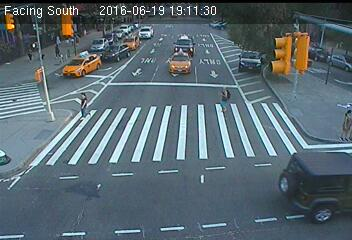neg: (260, 61, 285, 94), (240, 46, 261, 74), (305, 50, 323, 73), (1, 150, 18, 173), (186, 47, 199, 63), (37, 50, 48, 64)
pos: (72, 88, 98, 123), (333, 106, 351, 146), (214, 83, 236, 112), (21, 44, 37, 65), (49, 40, 65, 61)
